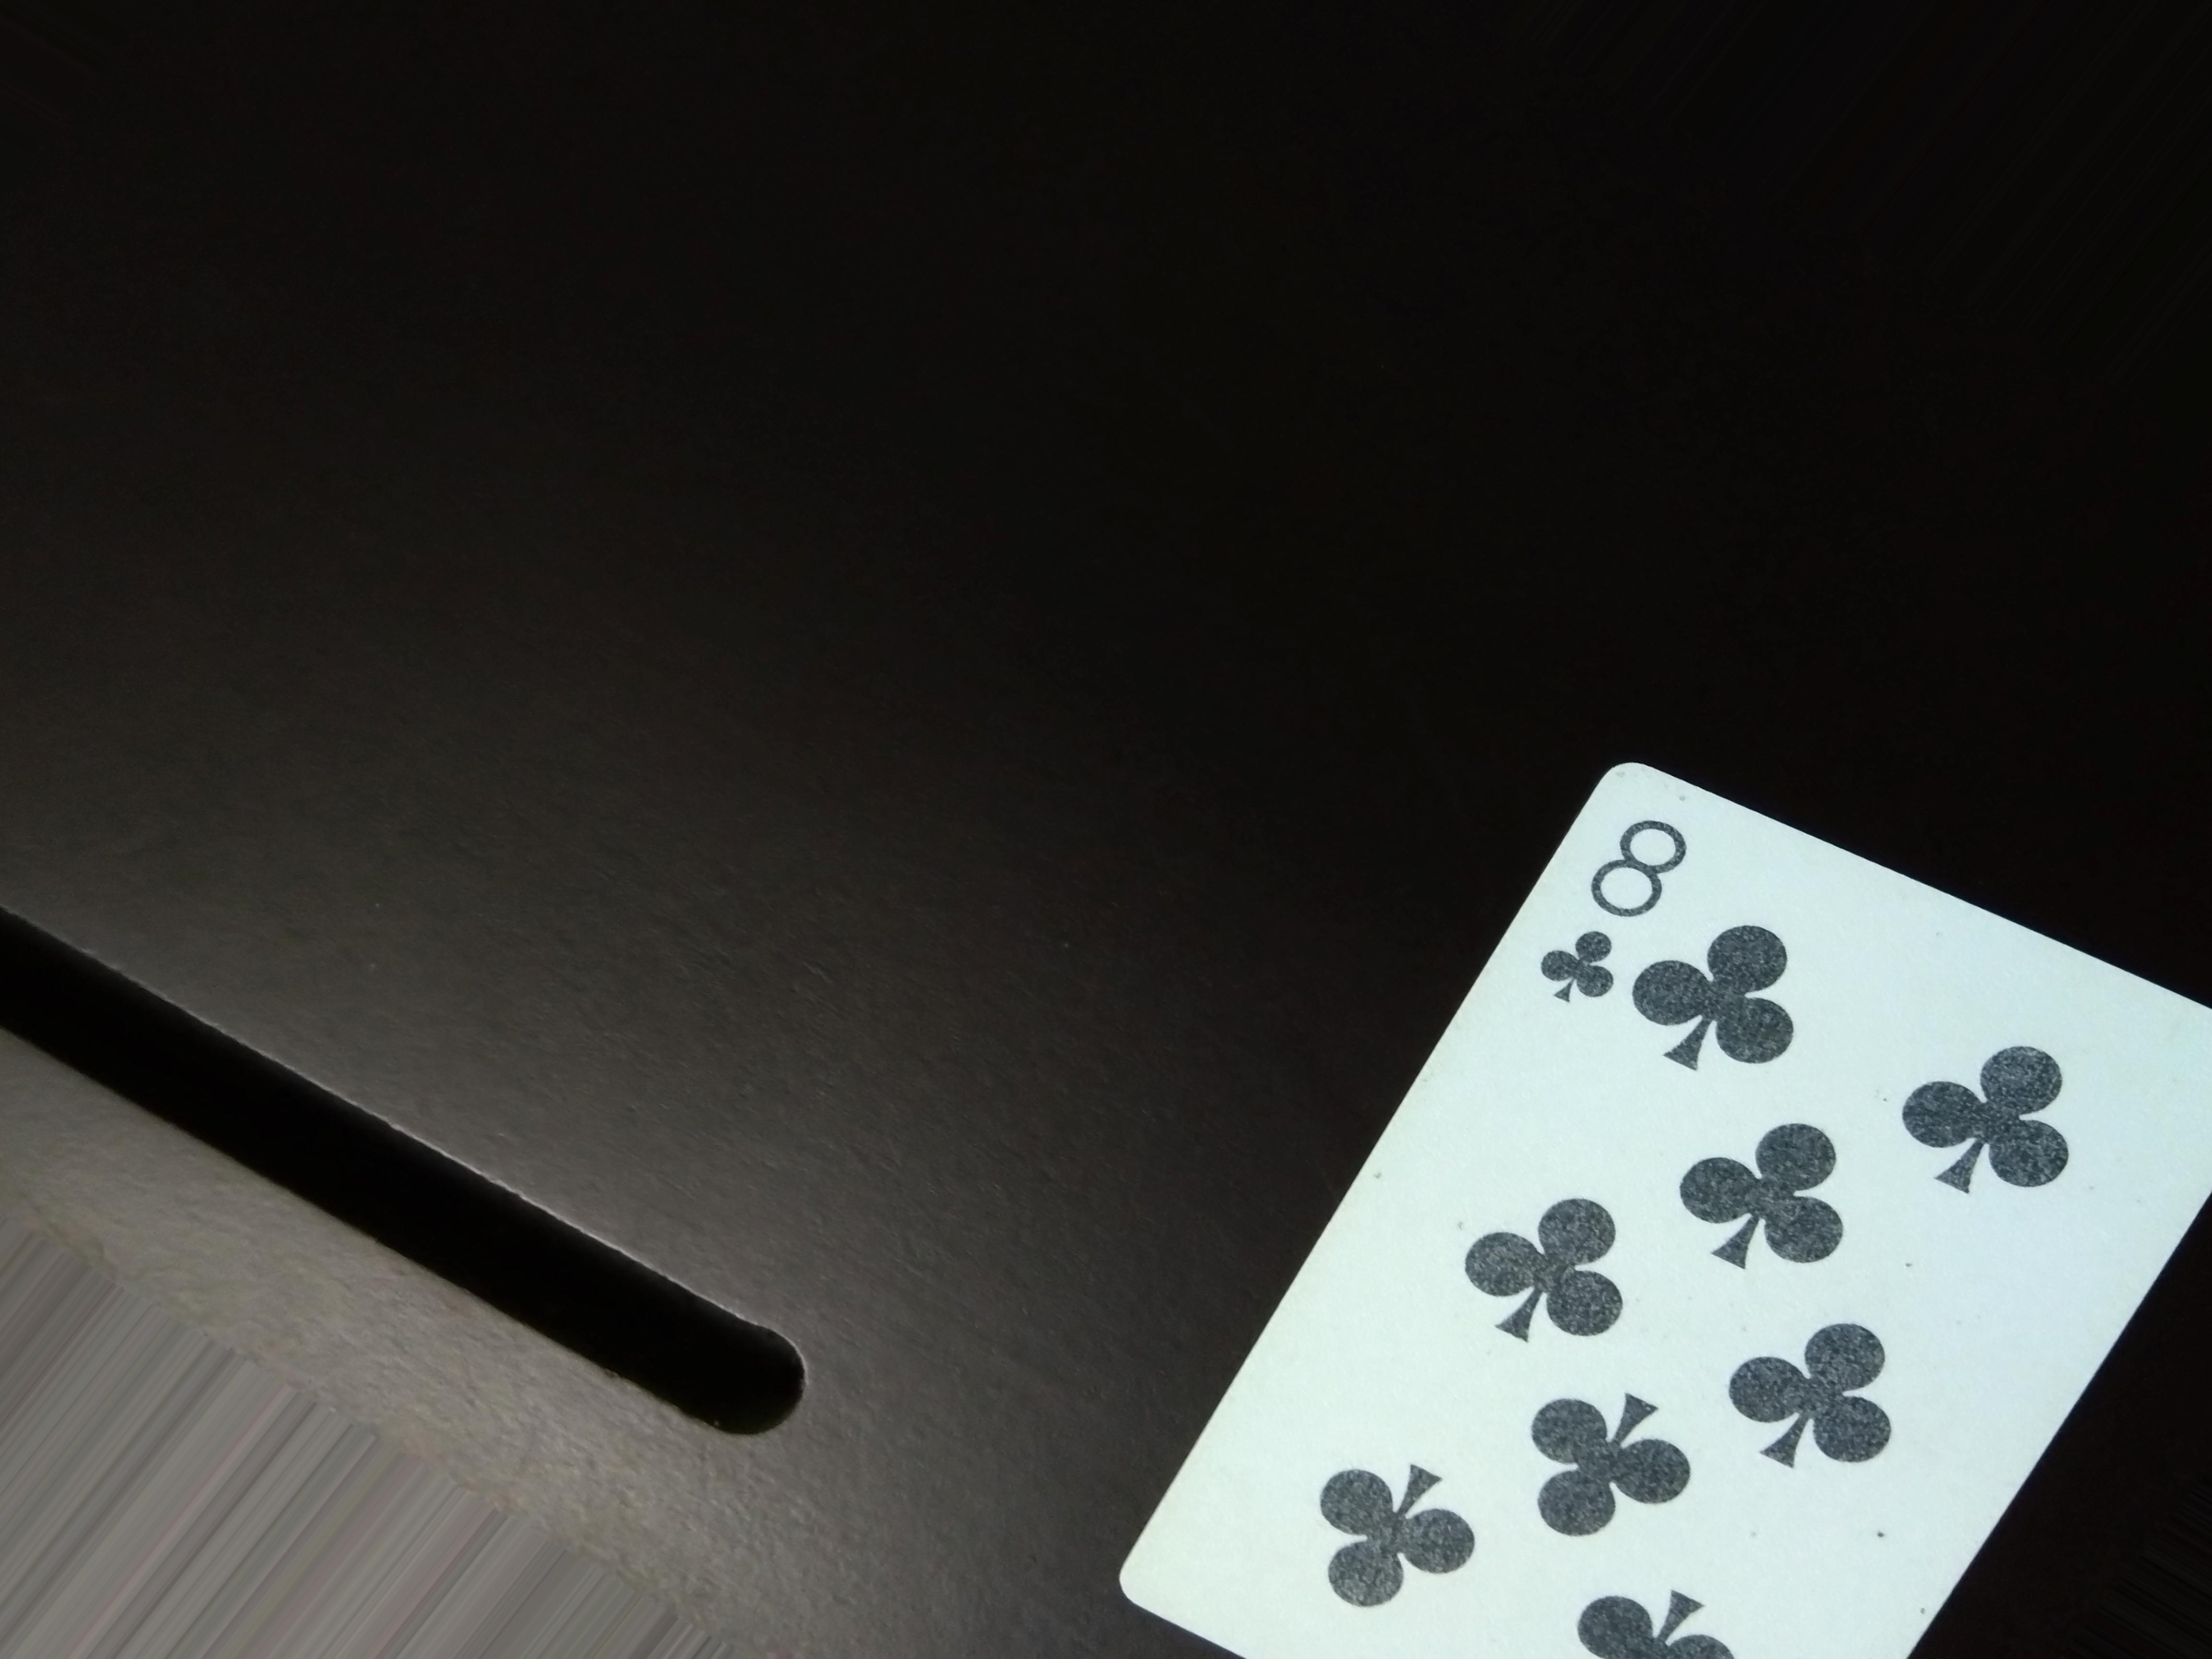8C: (1540, 805, 1688, 1000)
